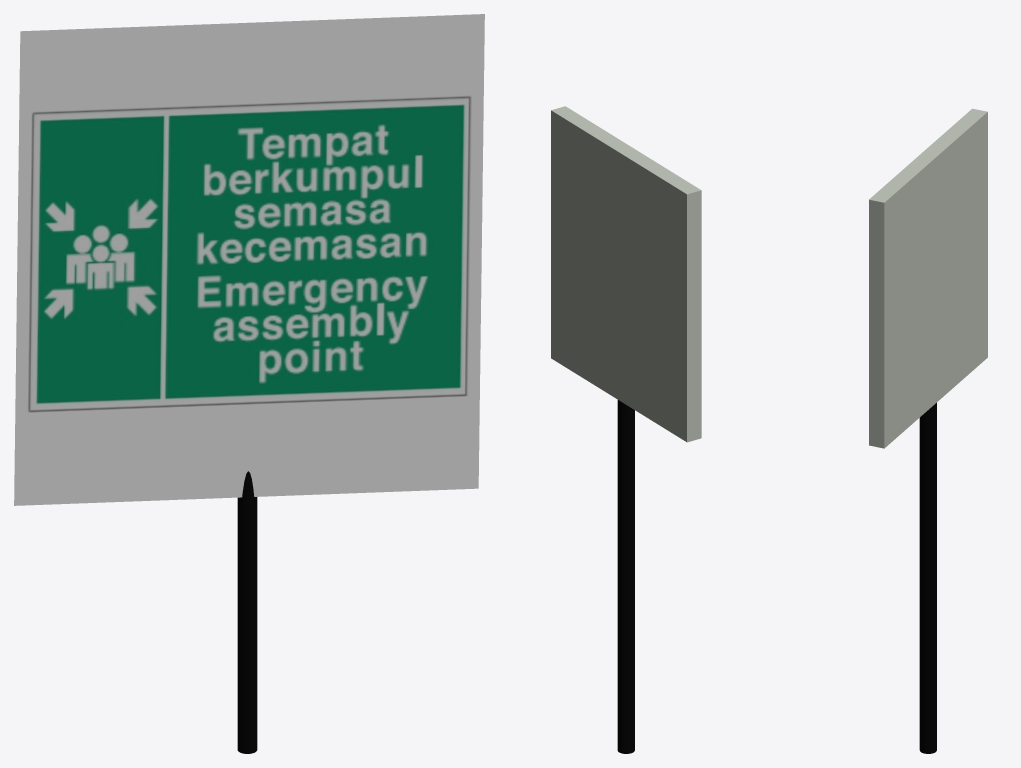
The model's file is signboard1.glb.
The picture shows the model from 3 angles, left to right: view 1: azimuth 30°, elevation 25°; view 2: azimuth 150°, elevation 25°; view 3: azimuth 270°, elevation 25°; orthographic projection. The views are drawn at different scales.
Parts seen in each view (by area): view 1: assembly point, Object_2; view 2: Object_0, Object_2; view 3: Object_0, Object_2.
Boxes of the visible parts, x1,y1,x2,y2 form: assembly point: (14, 14, 484, 505); Object_2: (237, 471, 257, 753); Object_0: (551, 106, 701, 442); Object_2: (617, 400, 634, 753); Object_0: (869, 108, 987, 448); Object_2: (919, 402, 936, 753).
Bounding box in the file's own units: 2.1 × 3.94 × 1.1.
Materials: 6 (1 with a texture image).
